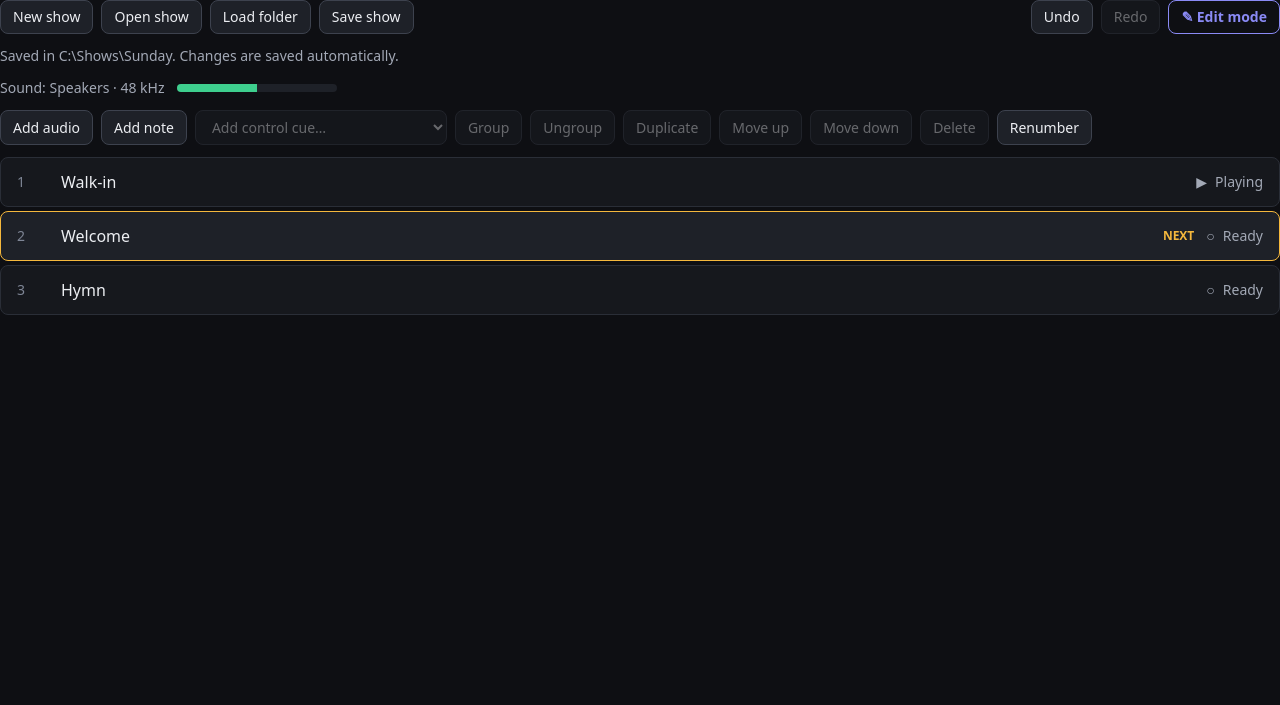
Test: editing cues › shows the settings of the selected cue
Click the text "Welcome": (96, 236) [61,225,130,247]
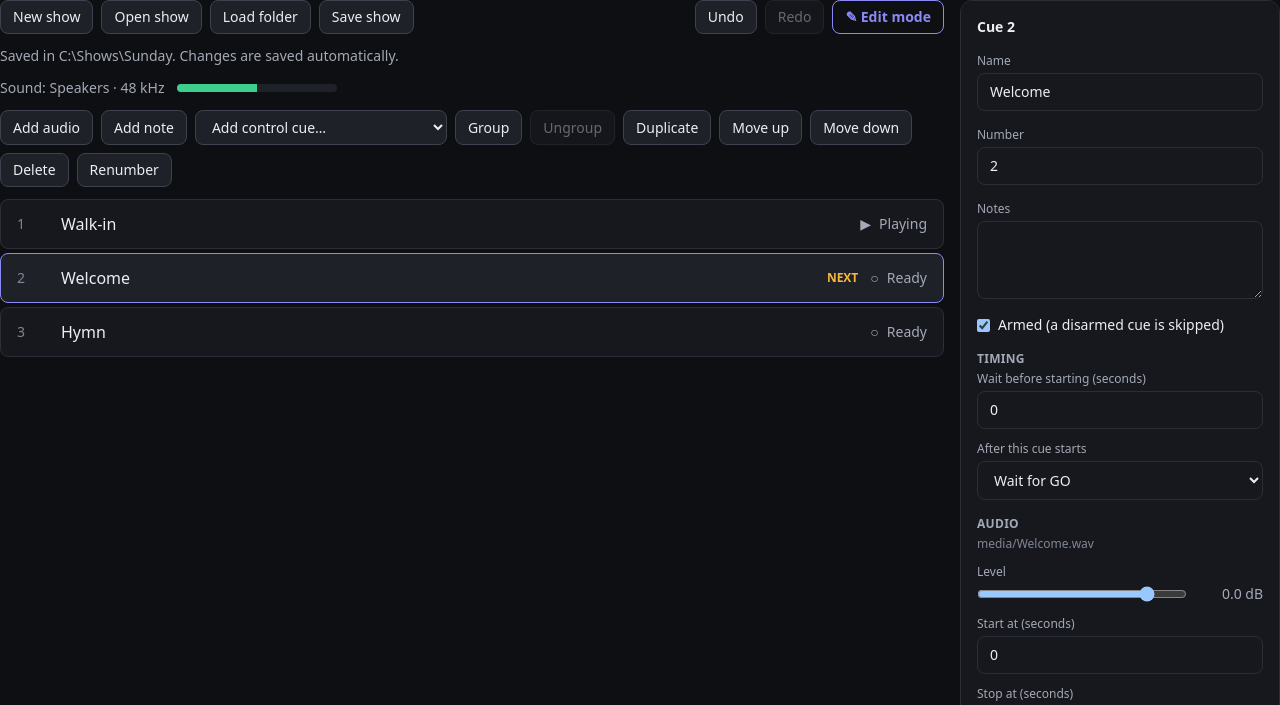
Now the field labelled "Name" holds "Welcome", box [977,73,1263,111]
Now the text "media/Welcome.wav" is shown, box [977,535,1094,552]
